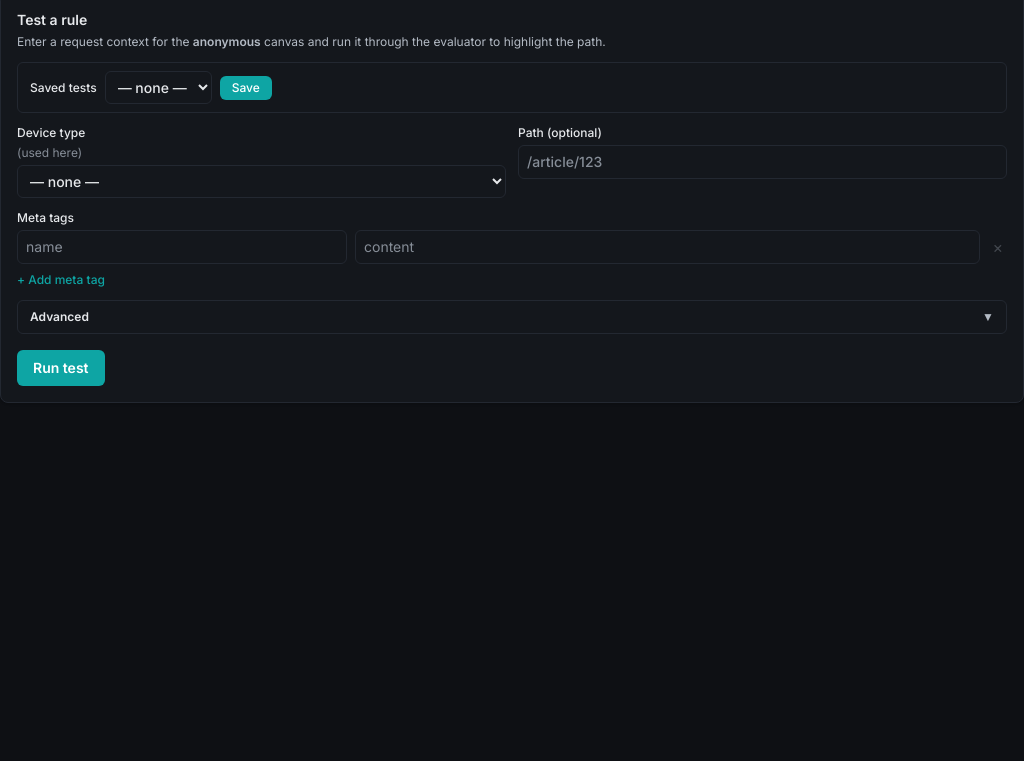
it: TestPanel › blocks Run when an Advanced header name is invalid
Click the button "Advanced ▼" at (59, 316), box [18,301,1006,333]
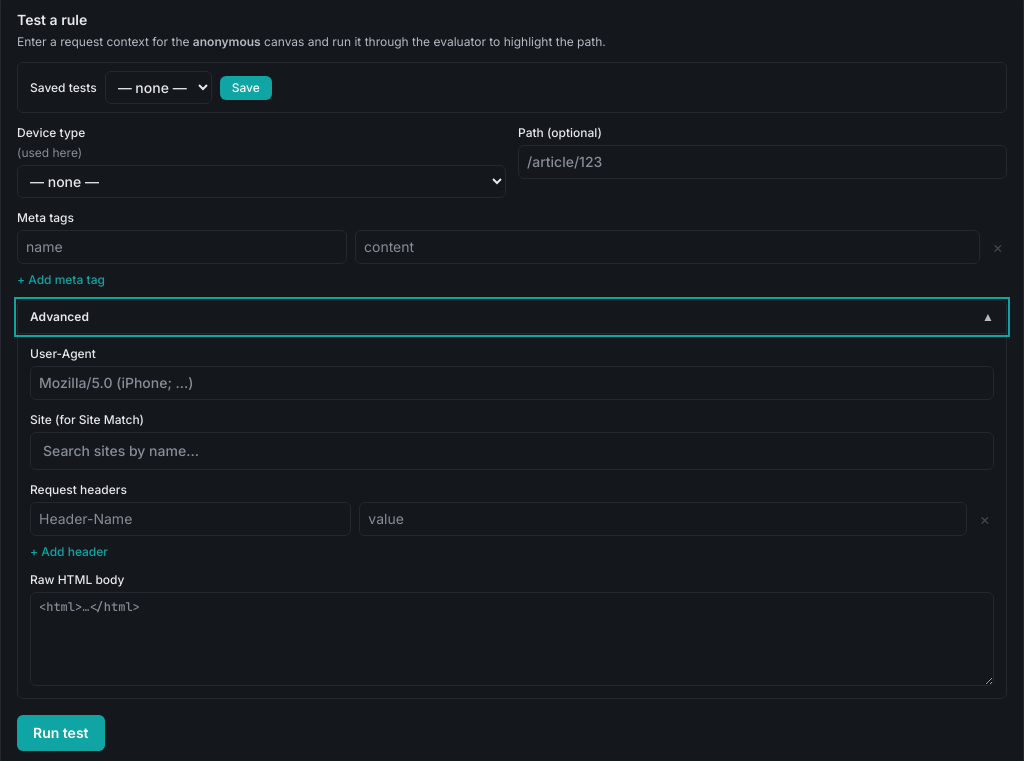
Type "Bad Header" into the field named "Test header name 1" at (191, 519), box [30,502,351,536]
(page scrolled)
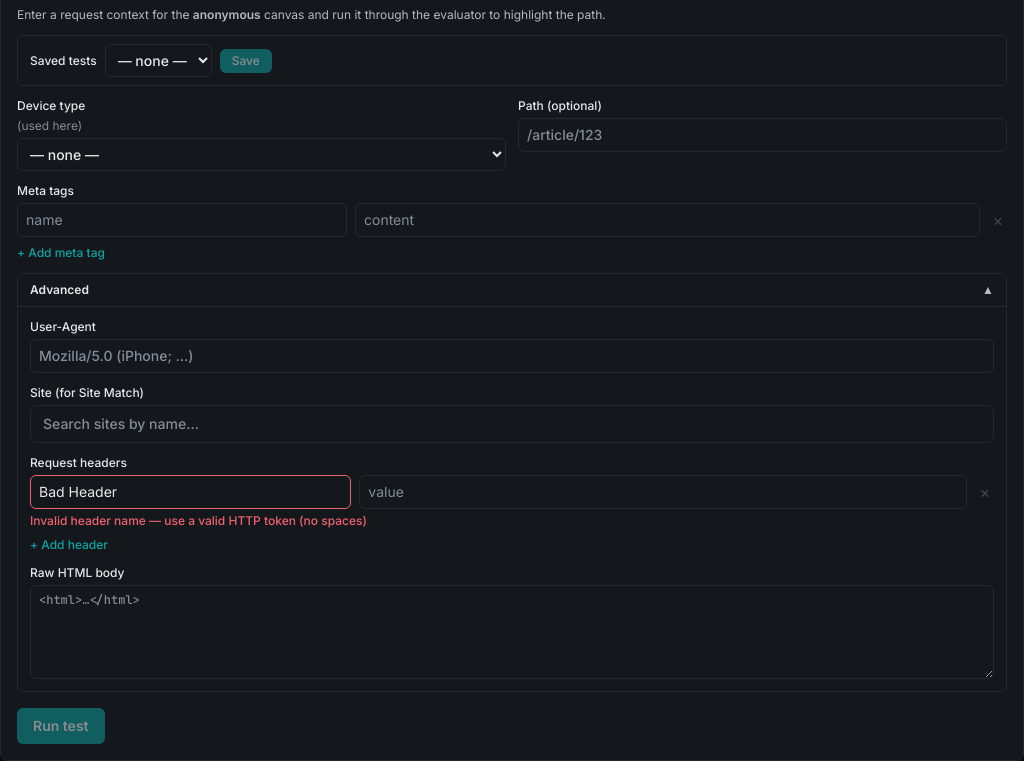
Expected: the message shows "valid HTTP token", [30,513,367,528]
Expected: the button "Run test" is disabled, [17,708,104,744]
